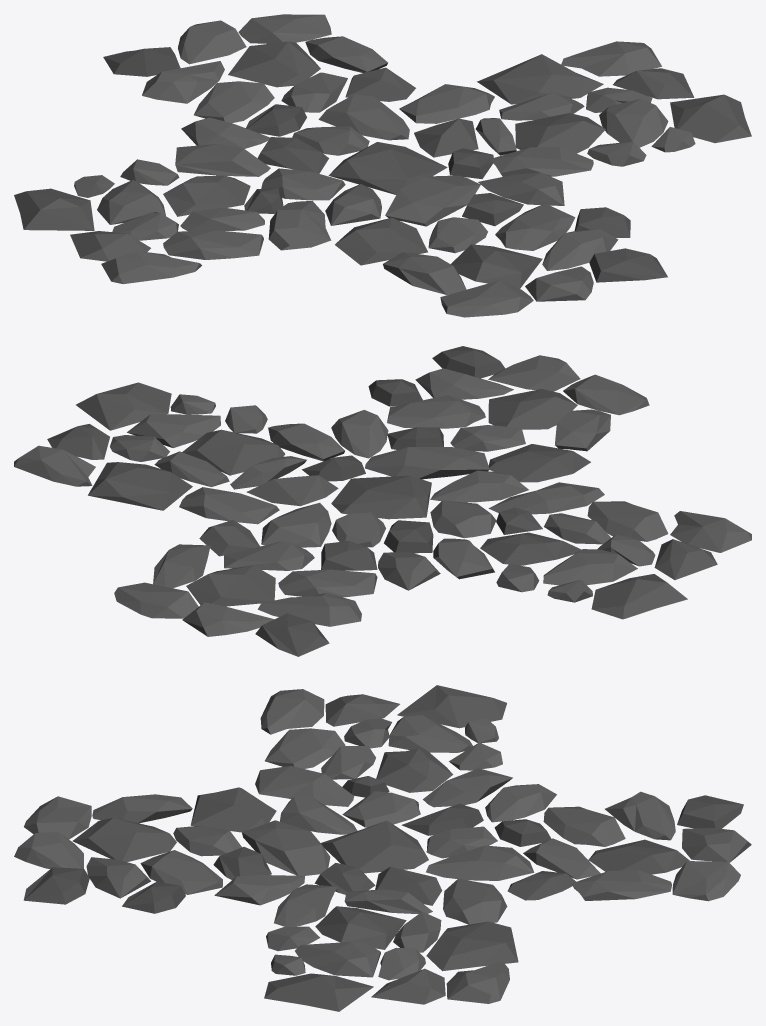
The model's file is crossroad_stone.fbx.
3 renders of one model, top to bottom at view 1: azimuth 30°, elevation 25°; view 2: azimuth 150°, elevation 25°; view 3: azimuth 270°, elevation 25°, orthographic.
Visible parts, largest first — view 1: crossroad_stone; view 2: crossroad_stone; view 3: crossroad_stone.
Part boxes in pixels (left/top/right/bottom): crossroad_stone: left=14, top=14, right=751, bottom=317; crossroad_stone: left=14, top=346, right=751, bottom=656; crossroad_stone: left=14, top=685, right=751, bottom=1011.
Size of the model in its own units: 438 by 11.24 by 425.
